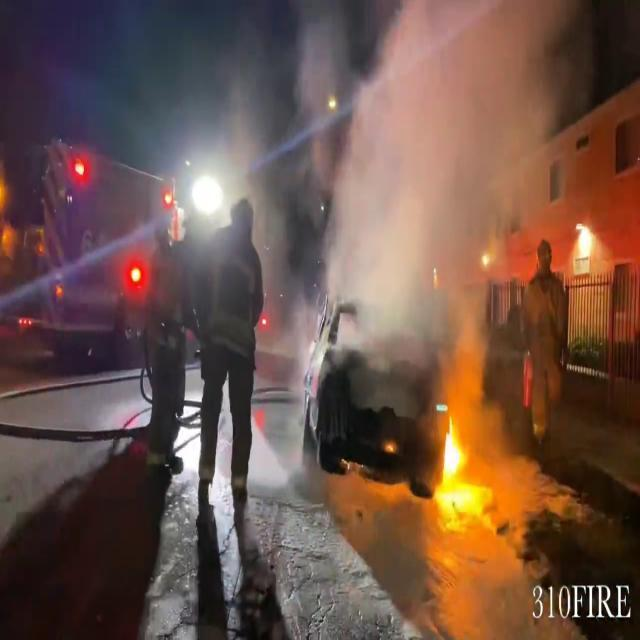Fire: (432, 404, 488, 522), (572, 218, 598, 269)
Smoke: (307, 0, 582, 369)
